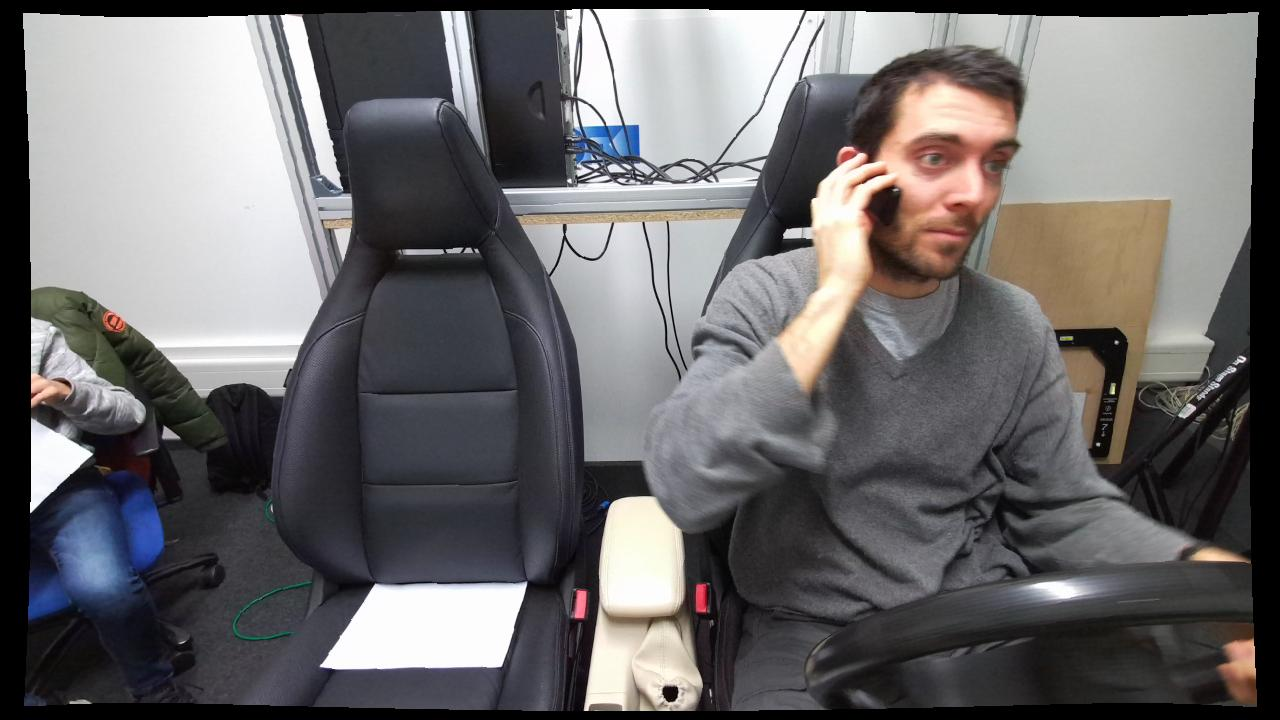PhoneUse: (836, 149, 908, 258)
